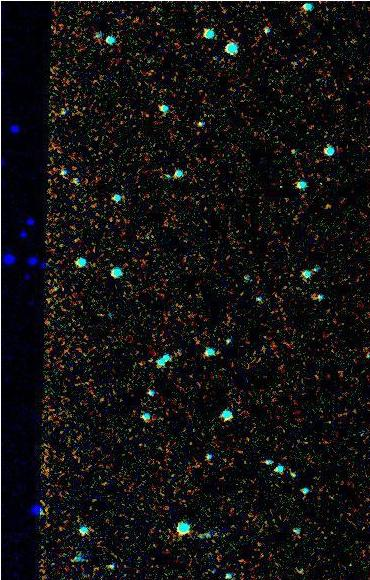star: (291, 284, 321, 314)
